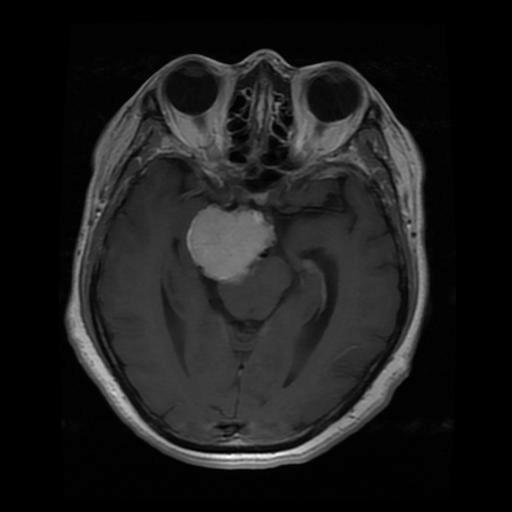Tumour-Pituitary: (170, 183, 293, 313)
